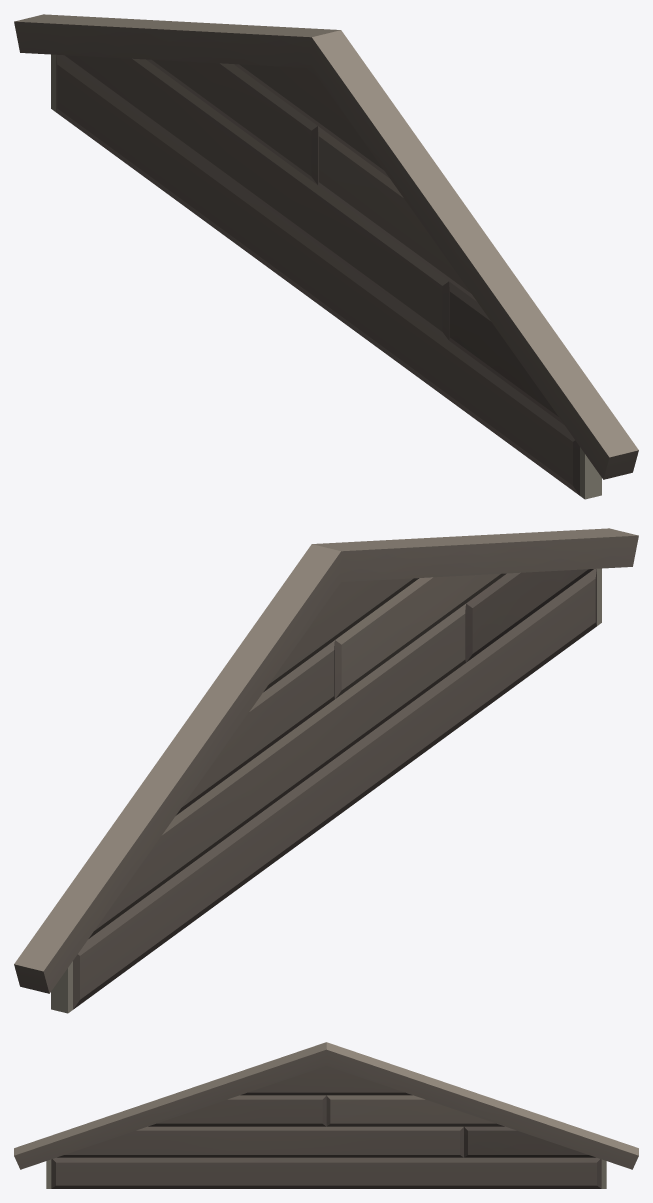
The model's file is TSP_House_Wall_Roof_02B_End.fbx.
3 views of the same model, one above another, from view 1: azimuth 30°, elevation 25°; view 2: azimuth 150°, elevation 25°; view 3: azimuth 270°, elevation 25° (orthographic). The views are drawn at different scales.
Visible parts, largest first — view 1: TSP_House_Wall_Roof_02B_End; view 2: TSP_House_Wall_Roof_02B_End; view 3: TSP_House_Wall_Roof_02B_End.
Part boxes in pixels (<box>): TSP_House_Wall_Roof_02B_End: <box>14,14,638,499</box>; TSP_House_Wall_Roof_02B_End: <box>14,528,638,1013</box>; TSP_House_Wall_Roof_02B_End: <box>14,1042,638,1188</box>.
Bounding box in the file's own units: 0.26 × 2.26 × 9.09.
